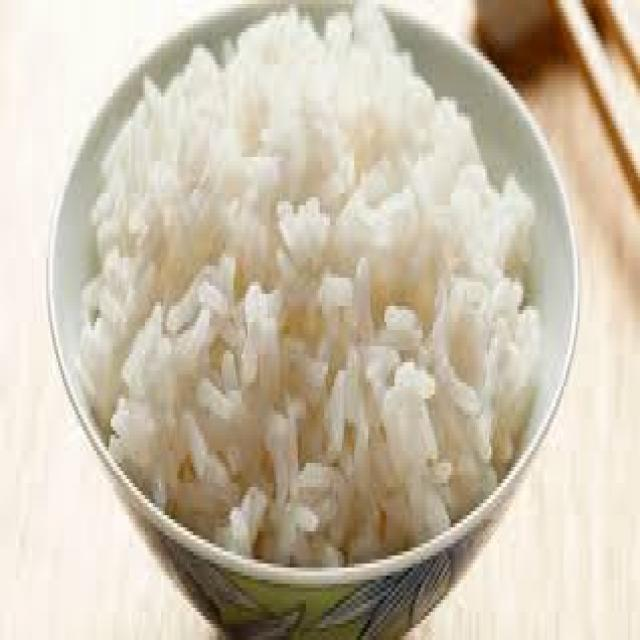White Rice: (52, 18, 574, 616)
